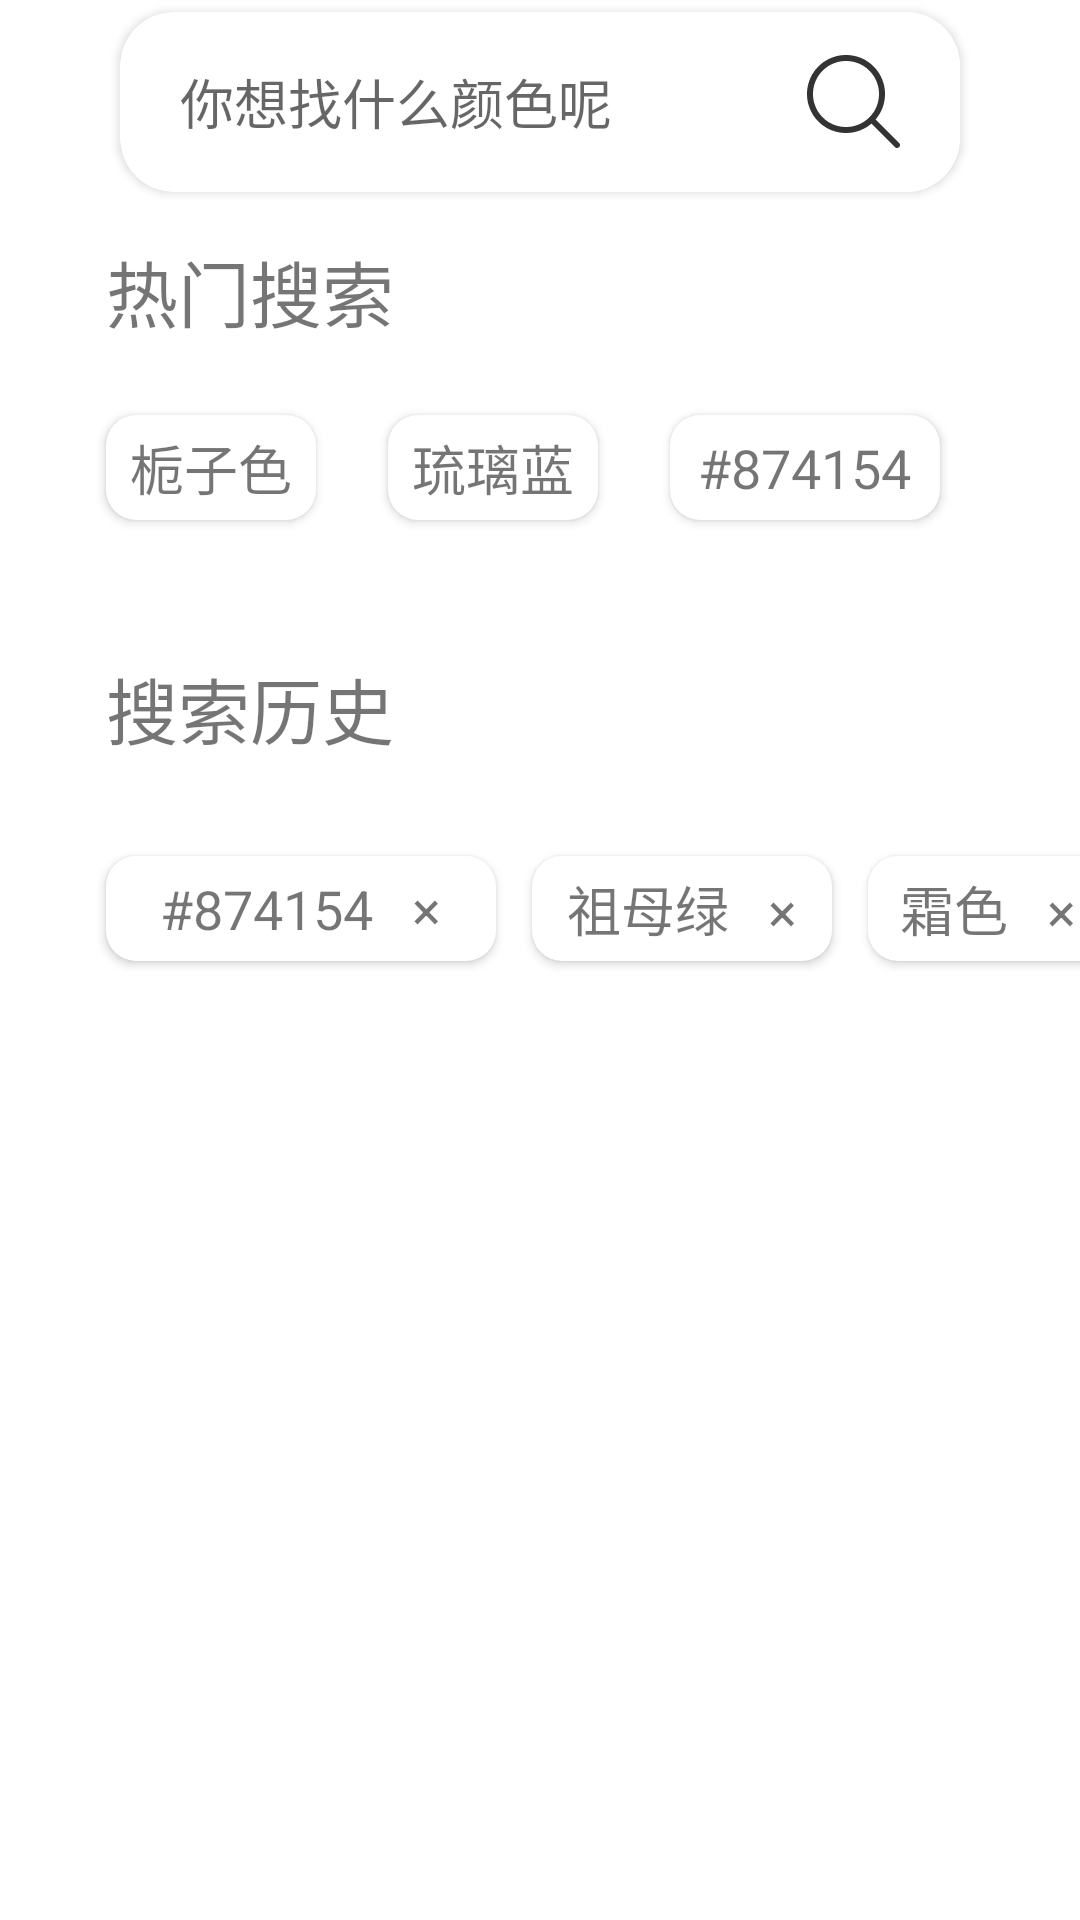

Icons on this 1080×1920 Android screen, each with its box as [left=x1, top=y1, right=x2, bottom=y2]:
hold search: [left=807, top=55, right=900, bottom=148]
